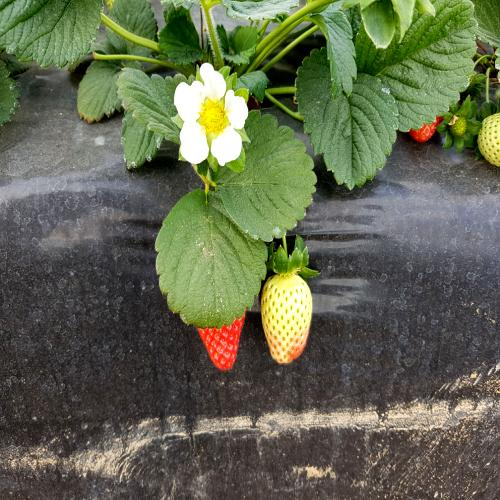partially-ripe: (259, 268, 316, 370)
